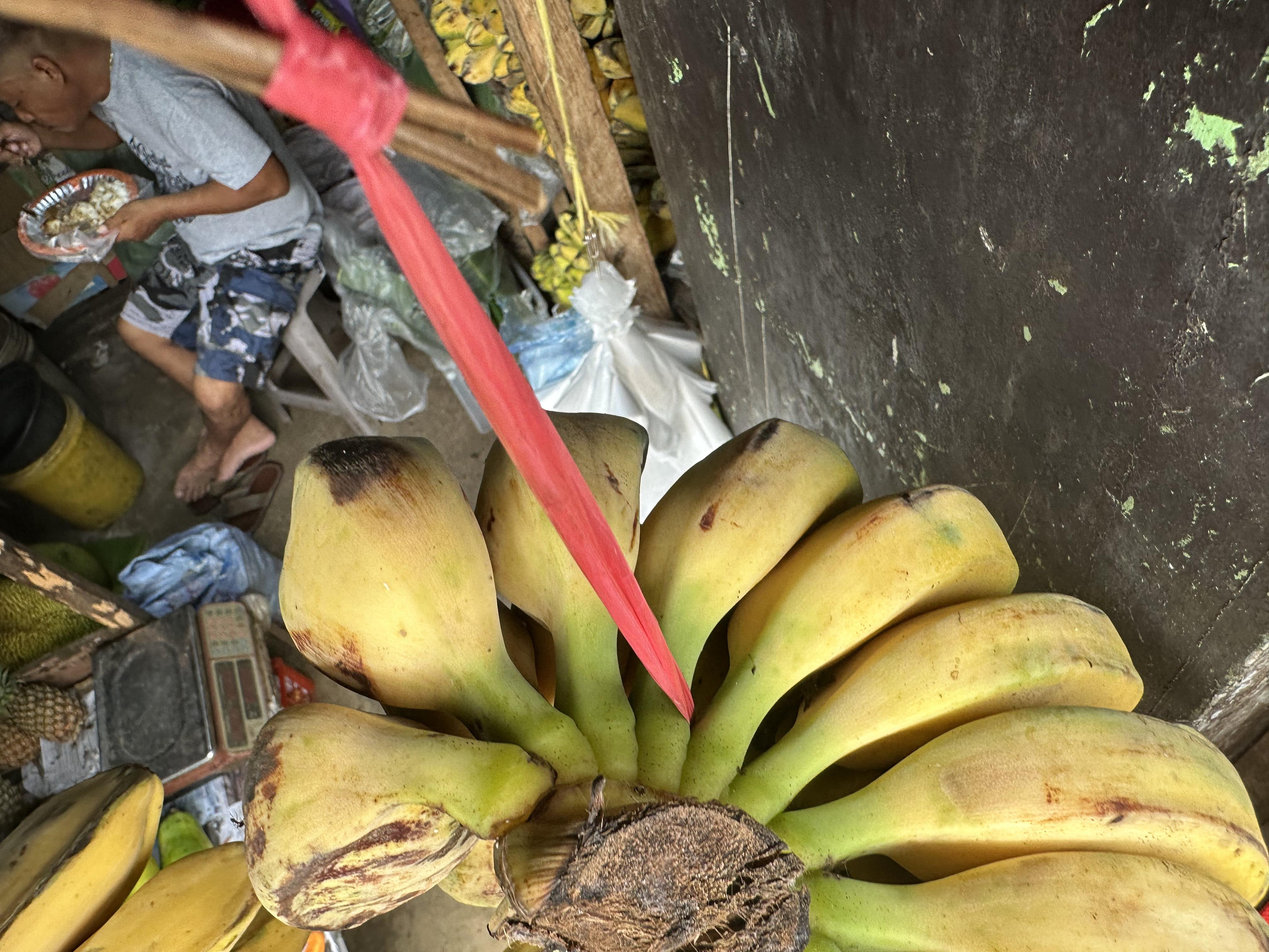ripe: (244, 434, 614, 932), (0, 765, 312, 952)
underripe: (543, 411, 1269, 952)
